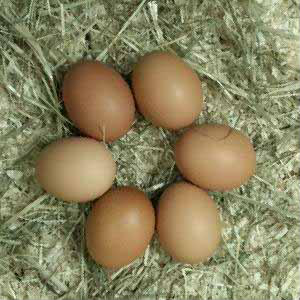egg: (85, 187, 156, 270), (62, 62, 136, 140), (131, 52, 203, 129), (155, 182, 221, 264), (174, 125, 255, 190), (36, 137, 116, 202)
